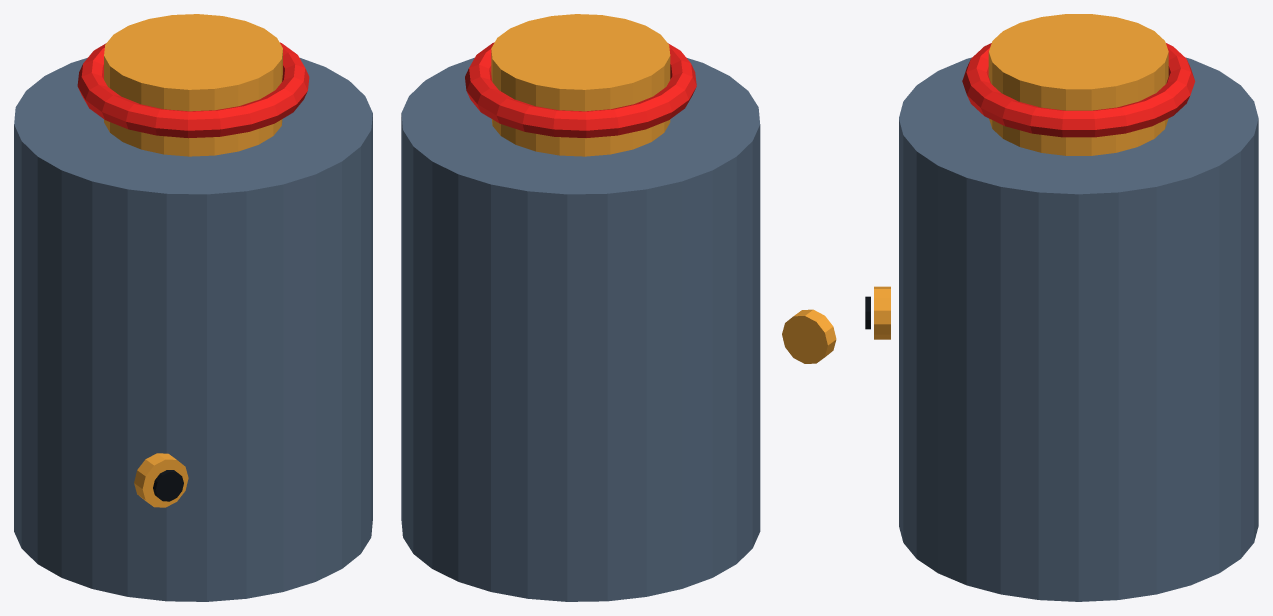
Rendered from 75_L88_HabitatPressureVesselSafetyRelief.fbx.
3 views of the same model, side by side, from view 1: azimuth 30°, elevation 25°; view 2: azimuth 150°, elevation 25°; view 3: azimuth 270°, elevation 25° (orthographic).
Parts seen in each view (by area): view 1: L87_HabitatPressureVesselSafetyRelief_Part_0000, L87_HabitatPressureVesselSafetyRelief_Part_0001, L87_HabitatPressureVesselSafetyRelief_Part_0002, L87_HabitatPressureVesselSafetyRelief_Part_0003, L87_HabitatPressureVesselSafetyRelief_Part_0004; view 2: L87_HabitatPressureVesselSafetyRelief_Part_0000, L87_HabitatPressureVesselSafetyRelief_Part_0001, L87_HabitatPressureVesselSafetyRelief_Part_0002, L87_HabitatPressureVesselSafetyRelief_Part_0003; view 3: L87_HabitatPressureVesselSafetyRelief_Part_0000, L87_HabitatPressureVesselSafetyRelief_Part_0001, L87_HabitatPressureVesselSafetyRelief_Part_0002, L87_HabitatPressureVesselSafetyRelief_Part_0003.
Part boxes in pixels (<box>): L87_HabitatPressureVesselSafetyRelief_Part_0000: <box>14,58,372,601</box>; L87_HabitatPressureVesselSafetyRelief_Part_0001: <box>104,14,282,156</box>; L87_HabitatPressureVesselSafetyRelief_Part_0002: <box>77,42,309,138</box>; L87_HabitatPressureVesselSafetyRelief_Part_0003: <box>134,453,188,507</box>; L87_HabitatPressureVesselSafetyRelief_Part_0004: <box>153,470,183,501</box>; L87_HabitatPressureVesselSafetyRelief_Part_0000: <box>401,57,760,601</box>; L87_HabitatPressureVesselSafetyRelief_Part_0001: <box>491,14,670,156</box>; L87_HabitatPressureVesselSafetyRelief_Part_0002: <box>465,42,696,137</box>; L87_HabitatPressureVesselSafetyRelief_Part_0003: <box>782,309,836,363</box>; L87_HabitatPressureVesselSafetyRelief_Part_0000: <box>899,57,1258,601</box>; L87_HabitatPressureVesselSafetyRelief_Part_0001: <box>988,14,1168,155</box>; L87_HabitatPressureVesselSafetyRelief_Part_0002: <box>962,43,1195,137</box>; L87_HabitatPressureVesselSafetyRelief_Part_0003: <box>874,286,890,339</box>.
Bounding box in the file's own units: 88 × 128 × 96.2.
